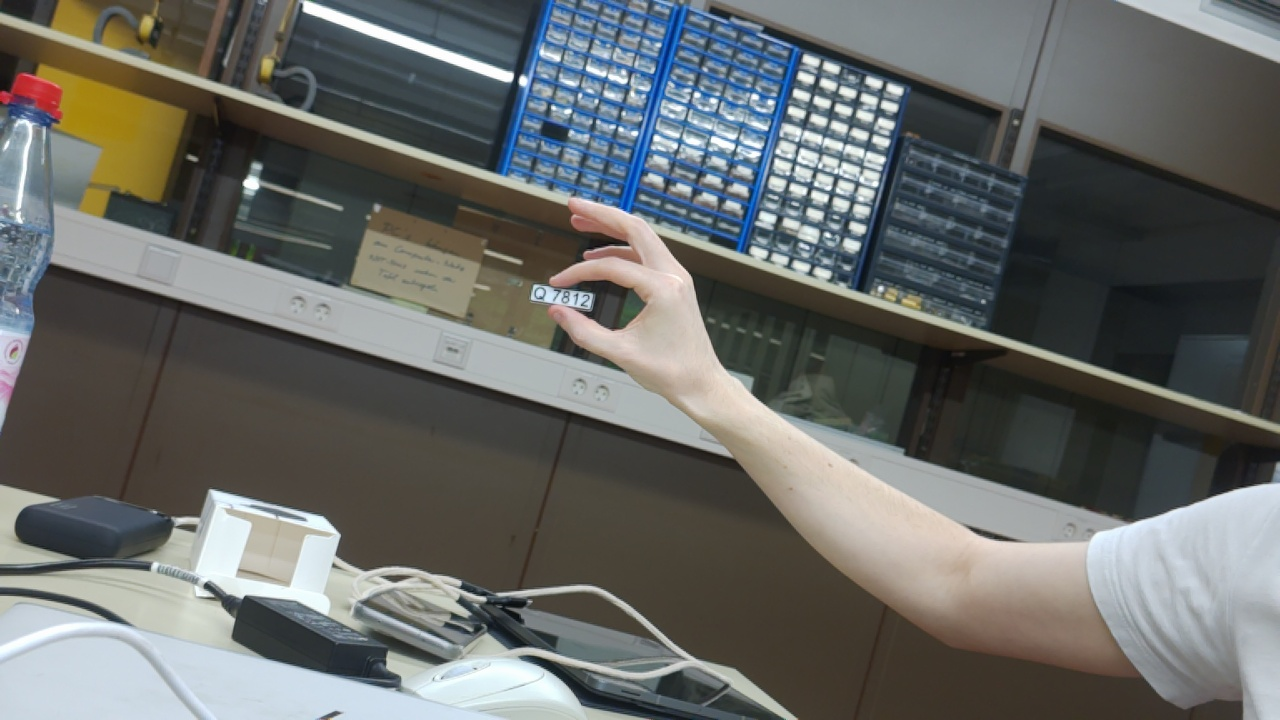license_plate: (523, 276, 602, 315)
